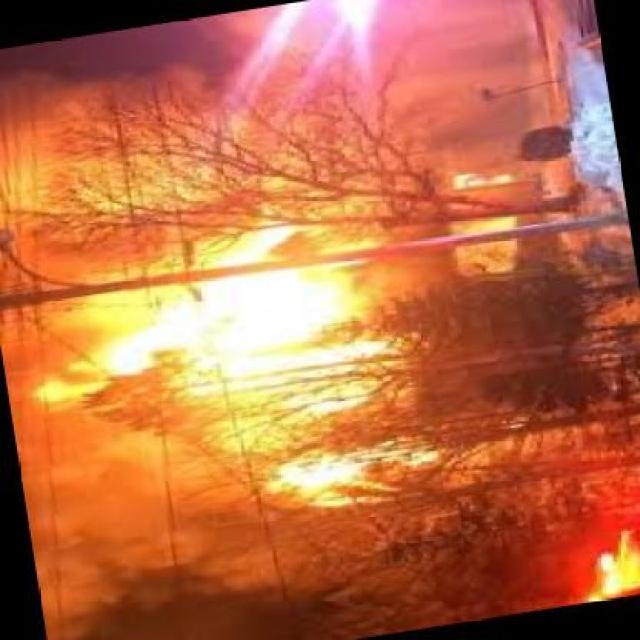Fire: (28, 218, 403, 442), (245, 436, 455, 514)
Smoke: (27, 46, 331, 200), (32, 456, 240, 622)
